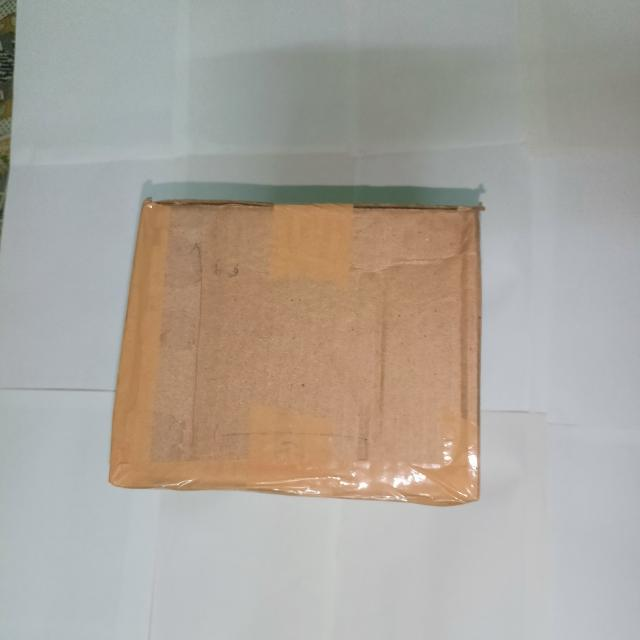box: (107, 206, 482, 498)
